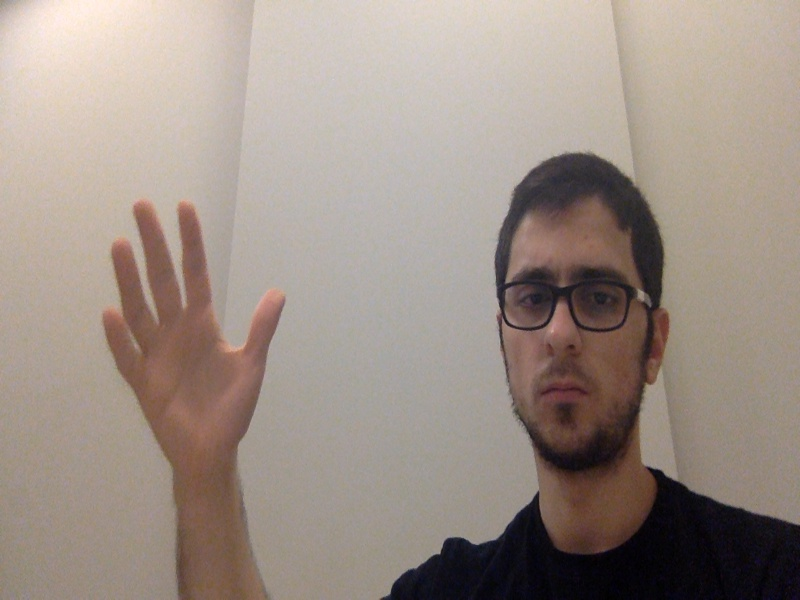5-hand: (100, 196, 286, 459)
